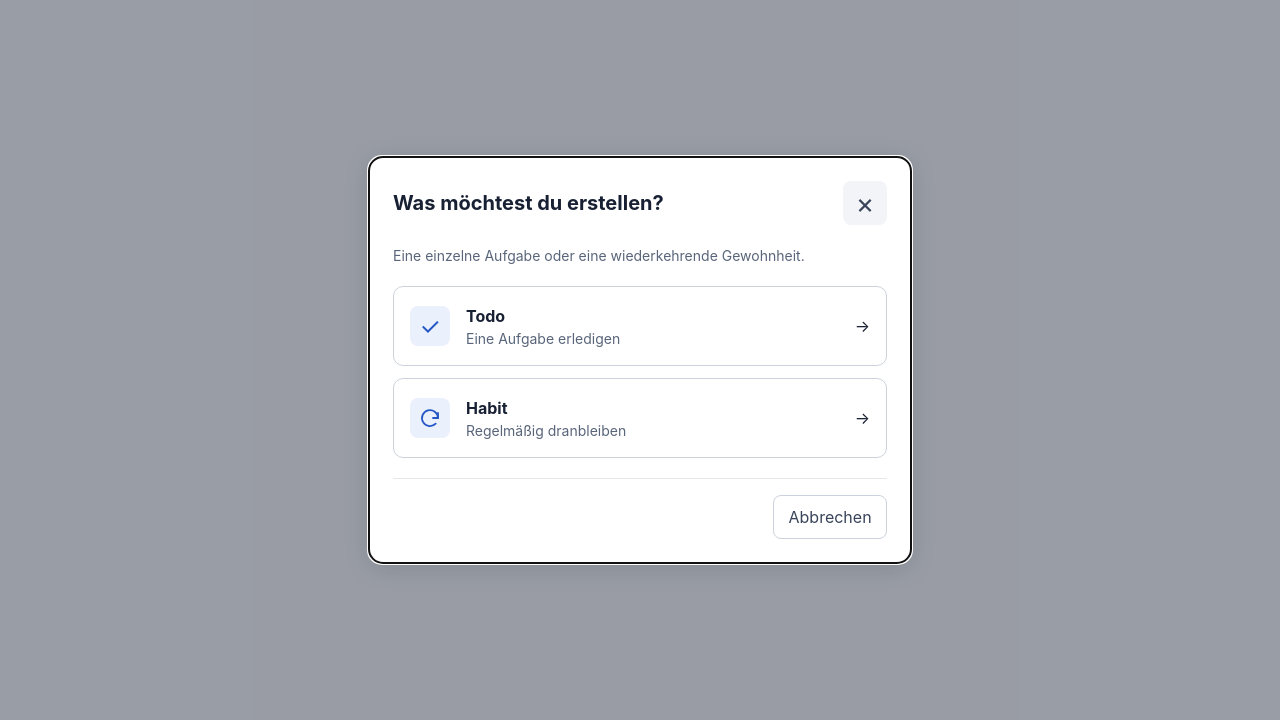
Test case: CreateItemDialog › opens the habit form and can return to the choice
The width and height of the screenshot is (1280, 720).
Click the button with test id "choose-habit" at (430, 418), box [393,378,887,458]
(page scrolled)
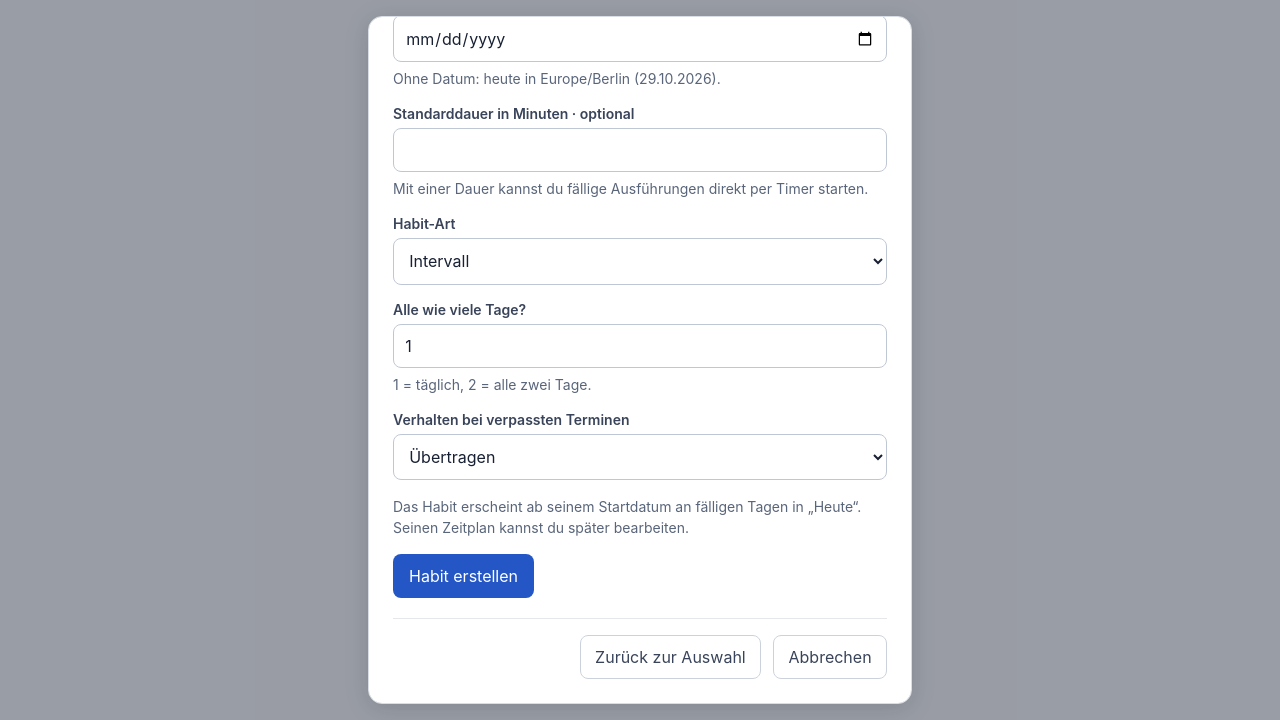
Now the element with class "create-habit" is shown, box [393,16,887,598]
Click the button "Zurück zur Auswahl" at (670, 657), box [580,635,761,679]
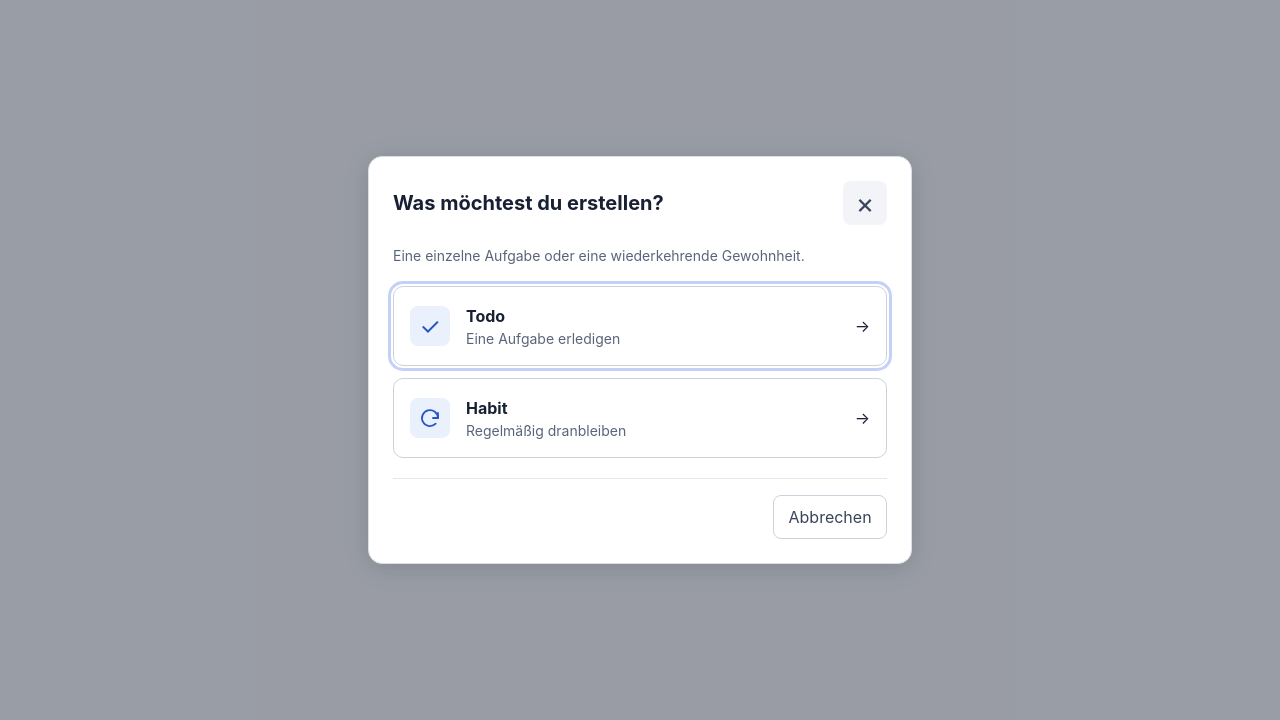
Now the button with test id "choose-todo" is shown, box [393,286,887,366]
